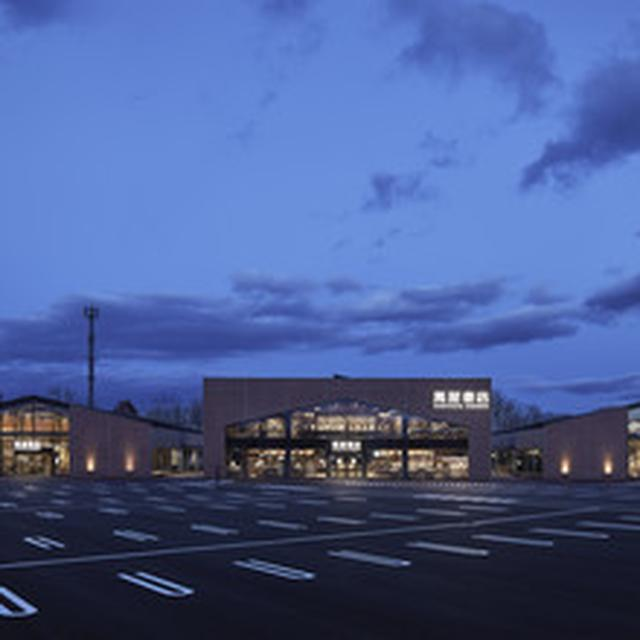building: (201, 371, 490, 484), (0, 376, 201, 478), (491, 397, 640, 498)
